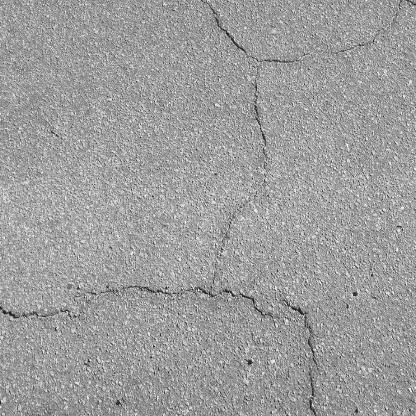Cracks: (83, 0, 324, 323), (281, 297, 325, 416), (331, 0, 416, 60), (0, 300, 75, 323)
